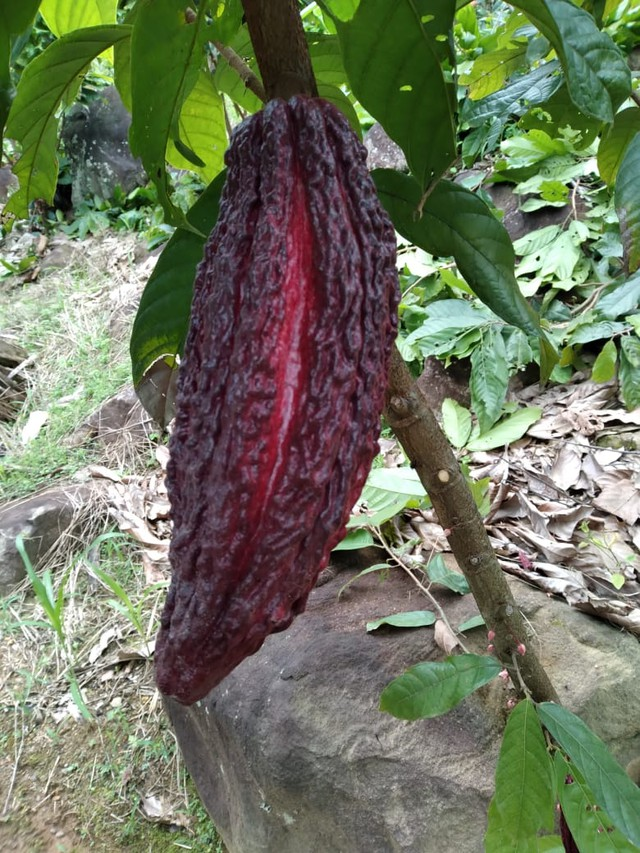Health: (143, 88, 407, 716)
